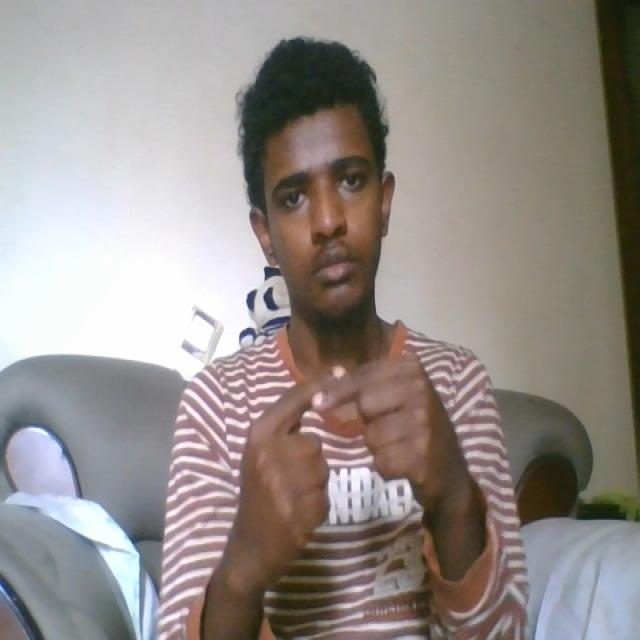eske: (240, 347, 439, 552)
